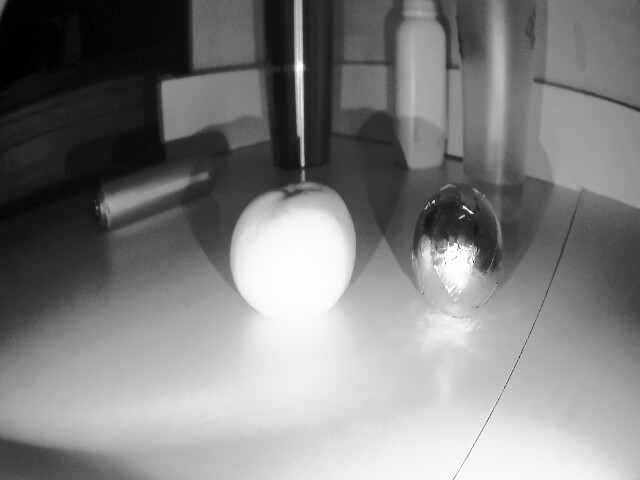black: (411, 185, 501, 321)
